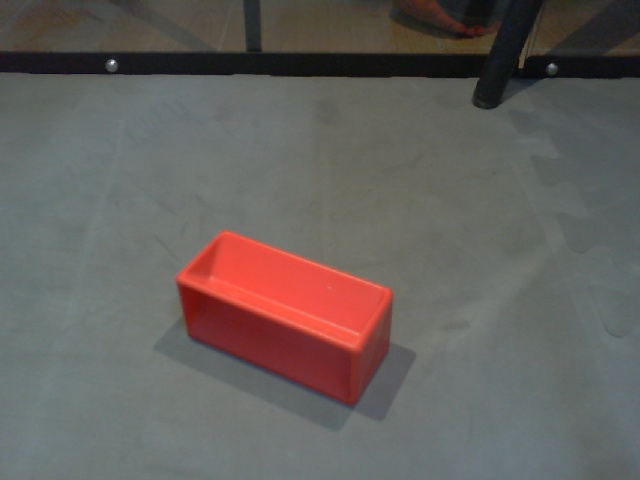RedSample: (174, 226, 395, 410)
